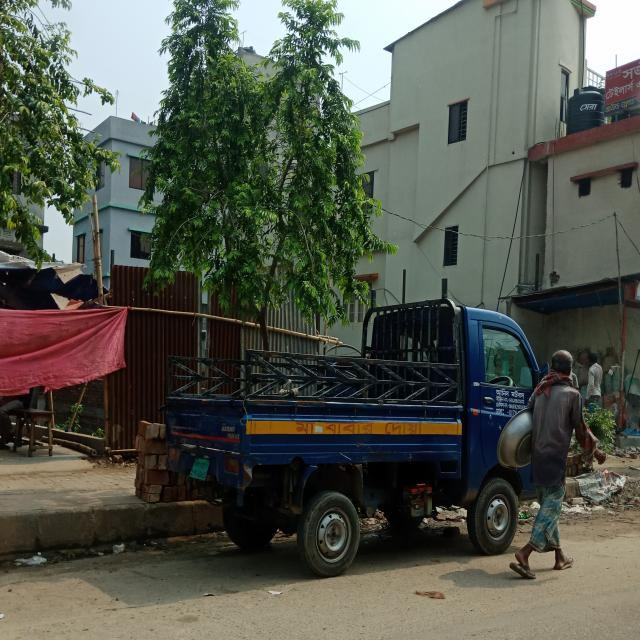truck: (166, 298, 547, 577)
